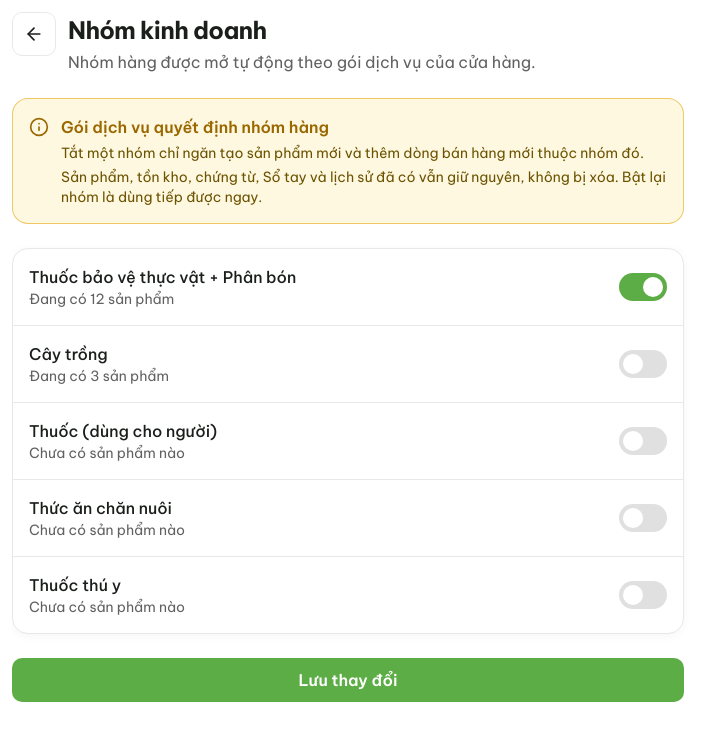
Test: BusinessGroupSettings › surfaces the backend 422 when an all-off payload slips through
The width and height of the screenshot is (701, 729).
Click the switch named "Cây trồng": point(643, 364) 619,350 -> 667,378
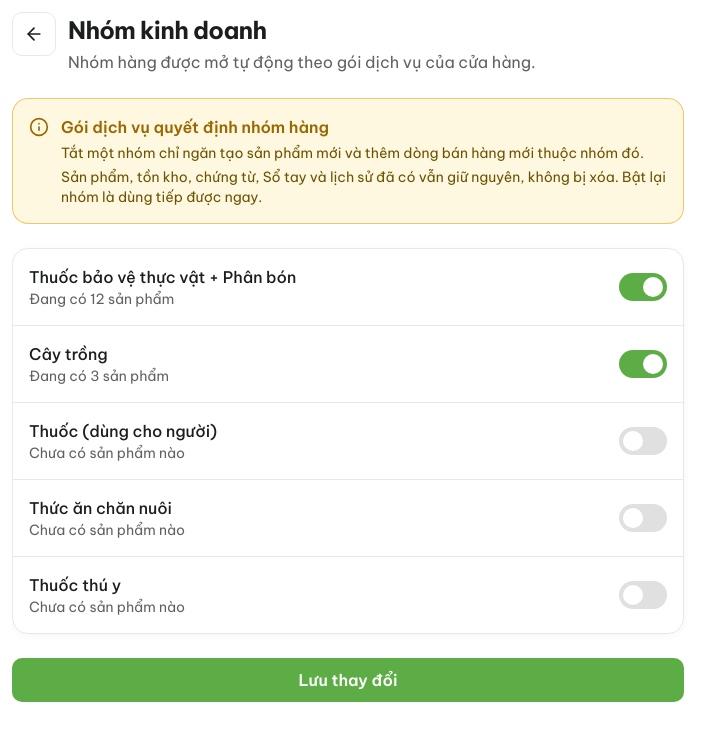
Click the button "Lưu thay đổi": point(348, 680) 12,658 -> 684,702
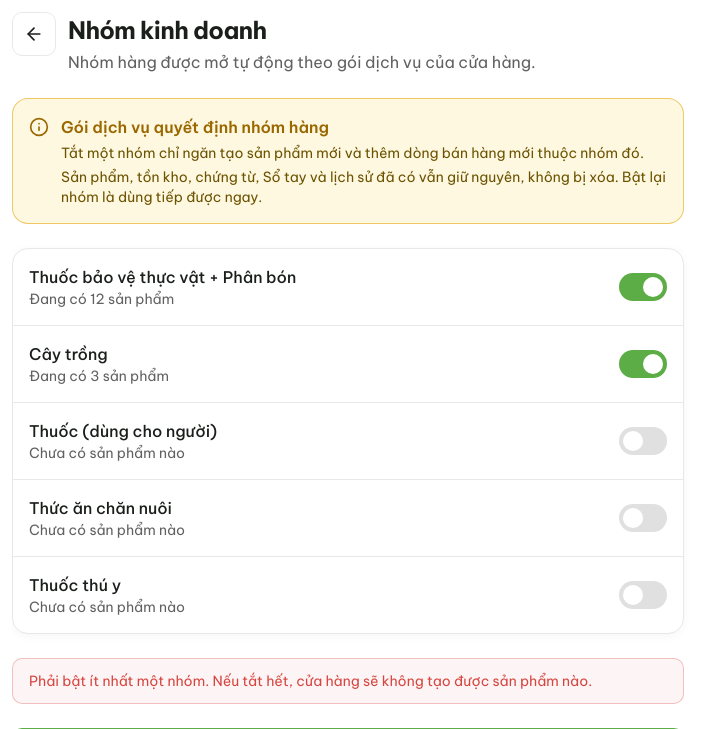
Check: the text "Phải bật ít nhất một nhóm. Nếu tắt hết, cửa hàng sẽ không tạo được sản phẩm nào." is shown, box 12,658 -> 684,704
